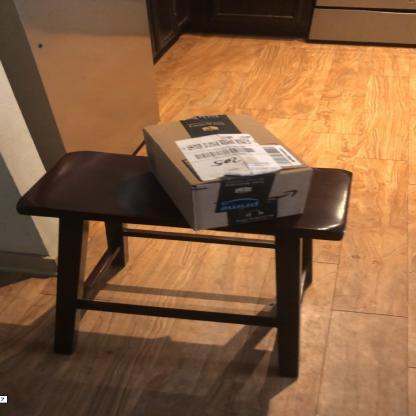package: (140, 108, 319, 233)
